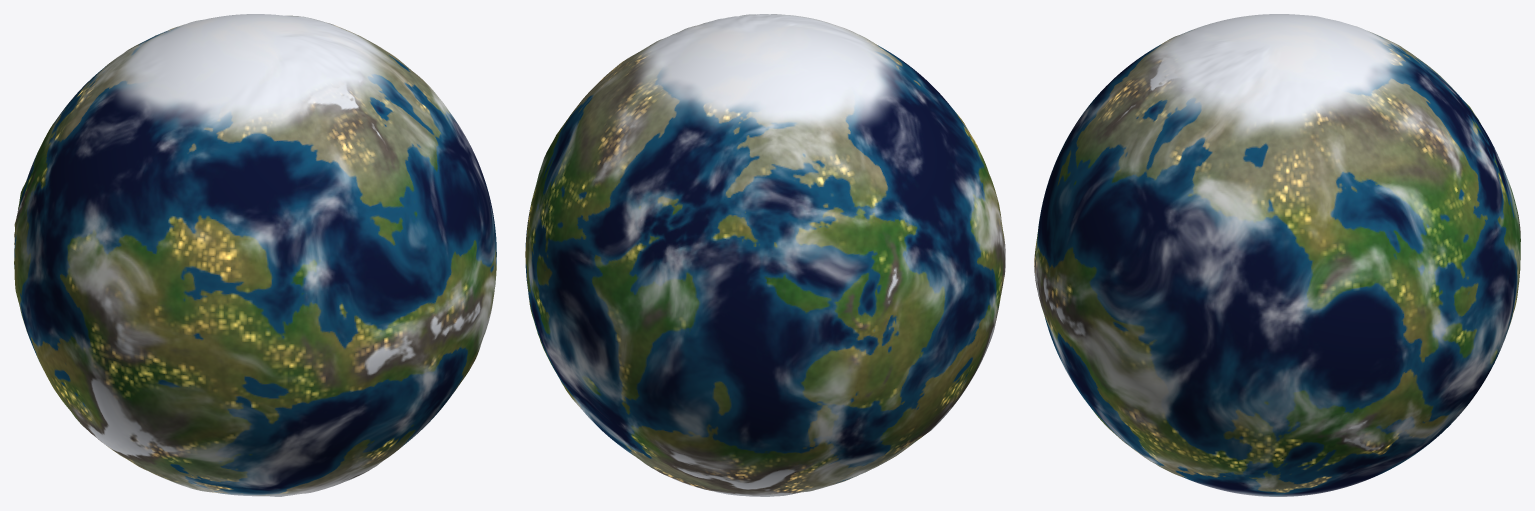
The model's file is planet_2.glb.
3 views of the same model, side by side, from view 1: azimuth 30°, elevation 25°; view 2: azimuth 150°, elevation 25°; view 3: azimuth 270°, elevation 25° (orthographic).
Parts seen in each view (by area): view 1: Planet; view 2: Planet; view 3: Planet.
Part boxes in pixels (x1,y1,x2,y2): Planet: (14, 14, 496, 496); Planet: (525, 14, 1005, 496); Planet: (1034, 14, 1520, 496).
Size of the model in its own units: 4 by 4 by 4.03.
Materials: 1 (1 with a texture image).
